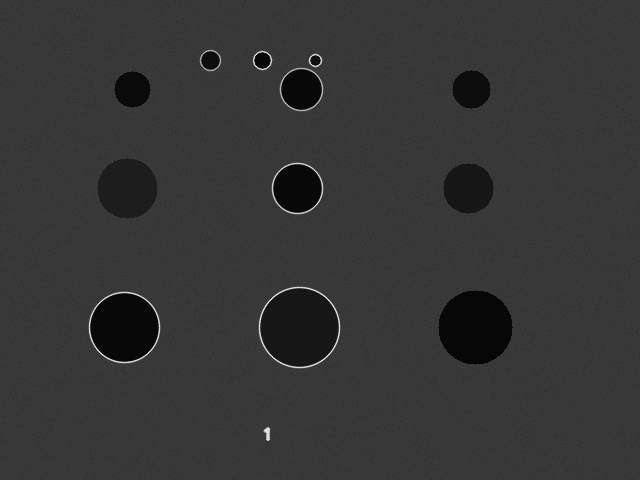hole: (259, 287, 339, 367), (438, 290, 512, 364), (89, 292, 159, 362), (97, 158, 157, 218), (272, 163, 322, 213), (443, 163, 493, 213), (280, 68, 322, 110), (452, 70, 490, 108), (114, 71, 150, 107), (200, 50, 220, 70), (253, 51, 271, 69), (309, 54, 321, 66)
